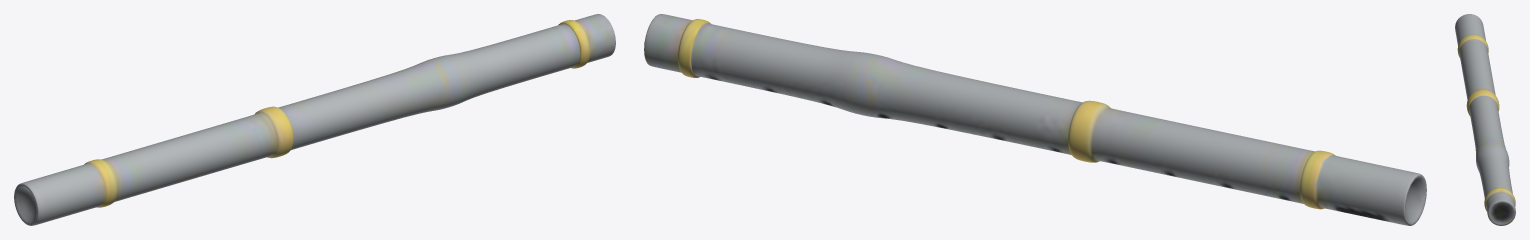
File: MZ4250 - Flute.glb
3 views of the same model, side by side, from view 1: azimuth 30°, elevation 25°; view 2: azimuth 150°, elevation 25°; view 3: azimuth 270°, elevation 25° (orthographic). The views are drawn at different scales.
Visible parts, largest first — view 1: Cylinder.001; view 2: Cylinder.001; view 3: Cylinder.001.
Boxes of the visible parts, <box> form: Cylinder.001: <box>14,14,615,225</box>; Cylinder.001: <box>644,14,1426,225</box>; Cylinder.001: <box>1455,14,1515,225</box>.
Bounding box in the file's own units: 30.64 × 2.29 × 4.14.
Materials: 1 (1 with a texture image).
